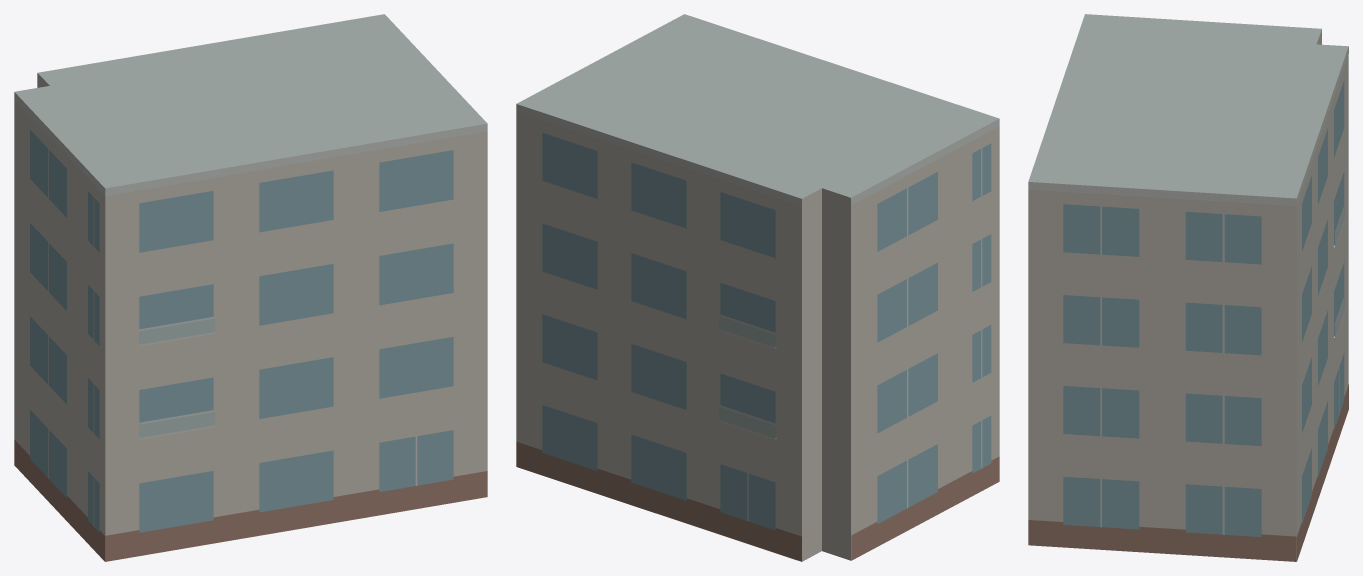
The model's file is survey-upis-33007730.glb.
3 views of the same model, side by side, from view 1: azimuth 30°, elevation 25°; view 2: azimuth 150°, elevation 25°; view 3: azimuth 270°, elevation 25° (orthographic). The views are drawn at different scales.
Parts seen in each view (by area): view 1: survey-upis-33007730.tmp; view 2: survey-upis-33007730.tmp; view 3: survey-upis-33007730.tmp.
Boxes of the visible parts, x1,y1,x2,y2 form: survey-upis-33007730.tmp: (14,14,487,561); survey-upis-33007730.tmp: (516,14,999,561); survey-upis-33007730.tmp: (1028,14,1348,561).
Bounding box in the file's own units: 12.75 × 11.7 × 9.36.
